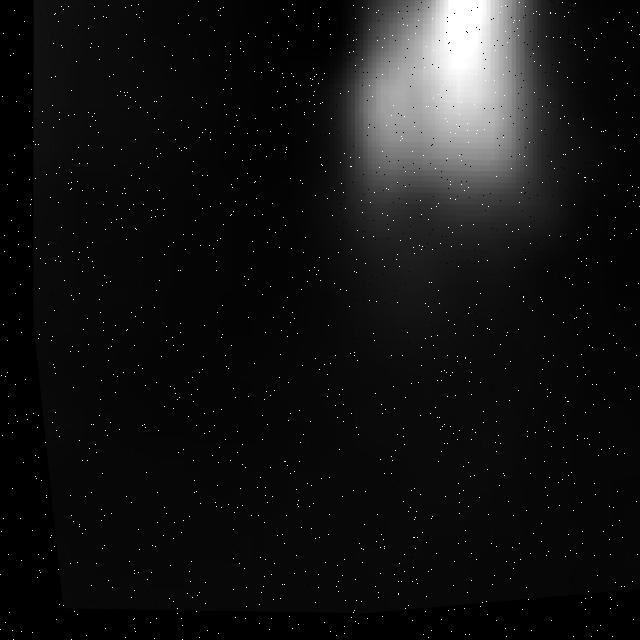person: (261, 1, 611, 415)
